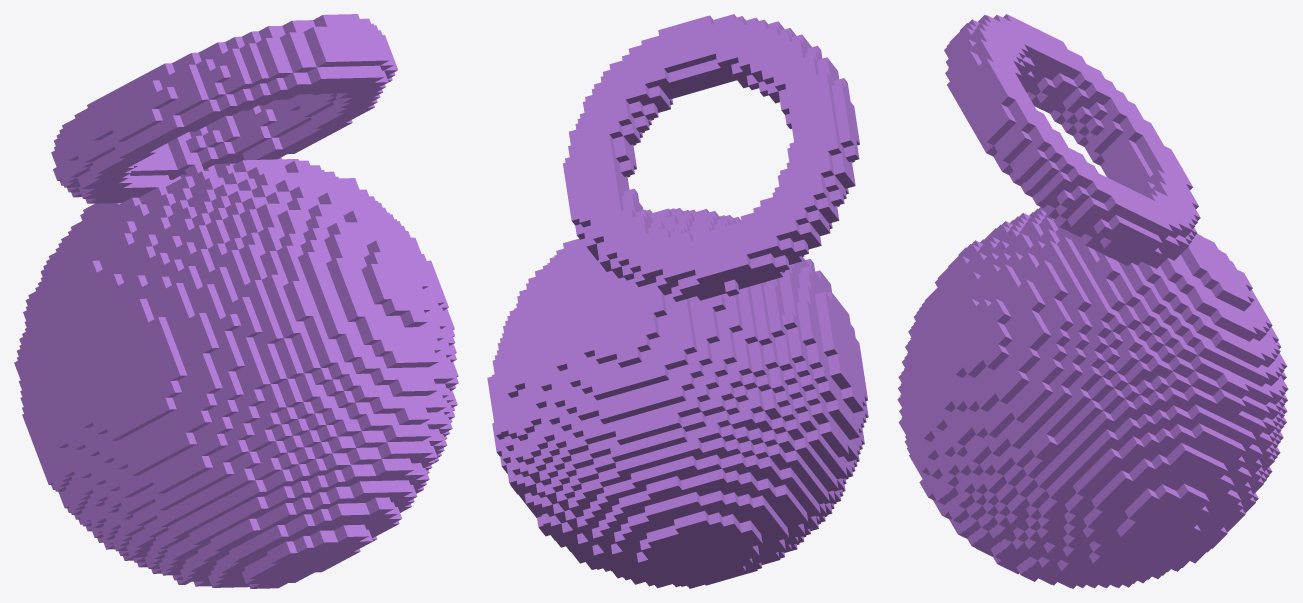
3 renders of one model, left to right at view 1: azimuth 30°, elevation 25°; view 2: azimuth 150°, elevation 25°; view 3: azimuth 270°, elevation 25°, orthographic. The views are drawn at different scales.
Visible parts, largest first — view 1: Torus; view 2: Torus; view 3: Torus.
Boxes of the visible parts, x1,y1,x2,y2 form: Torus: [14, 14, 458, 588]; Torus: [487, 14, 868, 588]; Torus: [897, 14, 1288, 588].
Size of what is drawn, in the model's own units: 3.99 by 6.04 by 4.04.
